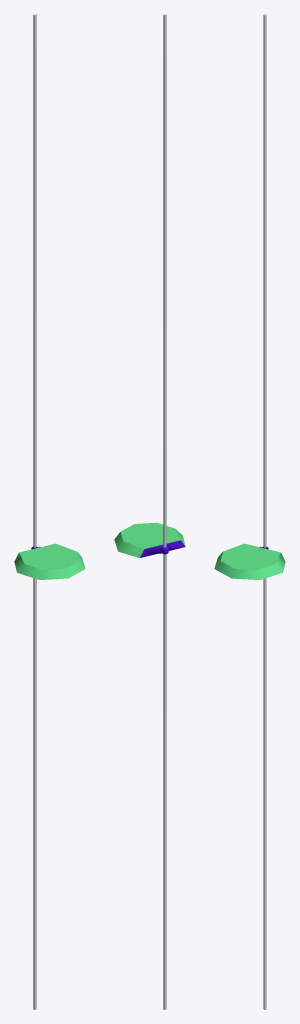
The model's file is elevator.fbx.
3 renders of one model, left to right at view 1: azimuth 30°, elevation 25°; view 2: azimuth 210°, elevation 25°; view 3: azimuth 330°, elevation 25°, orthographic.
Parts seen in each view (by area): view 1: Cylinder002, Cylinder001; view 2: Cylinder002, Cylinder001; view 3: Cylinder002, Cylinder001.
Part boxes in pixels (x1,y1,x2,y2): Cylinder002: (33, 14, 36, 1009); Cylinder001: (14, 543, 85, 579); Cylinder002: (163, 14, 166, 1009); Cylinder001: (114, 522, 185, 557); Cylinder002: (263, 14, 266, 1009); Cylinder001: (214, 543, 285, 579).
Size of the model in its own units: 47.49 by 695 by 44.23.
